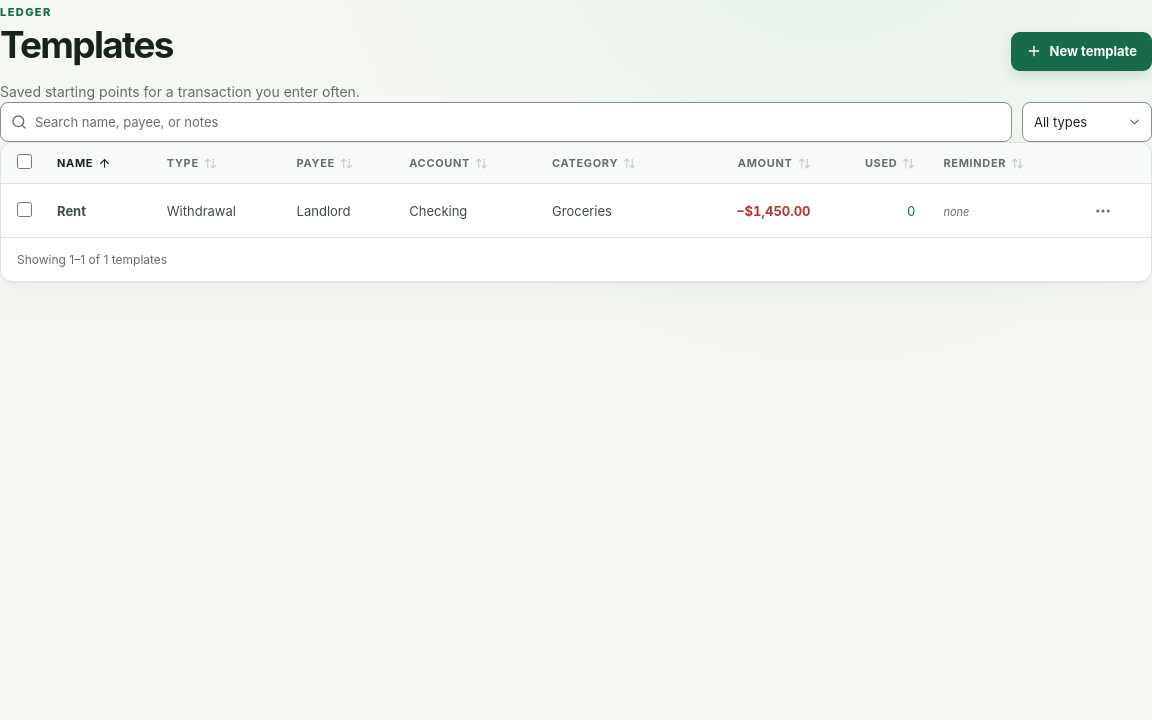
Test case: the templates screen › keeps the selection and shows the reason when a mass edit fails
expect the heading "Templates" is shown: met, box [0,26,173,65]
expect the text "Rent" is shown: met, box [57,203,86,219]
Step 1. Click the checkbox named "Select Rent" → coordinates (24, 209), box [16,202,32,217]
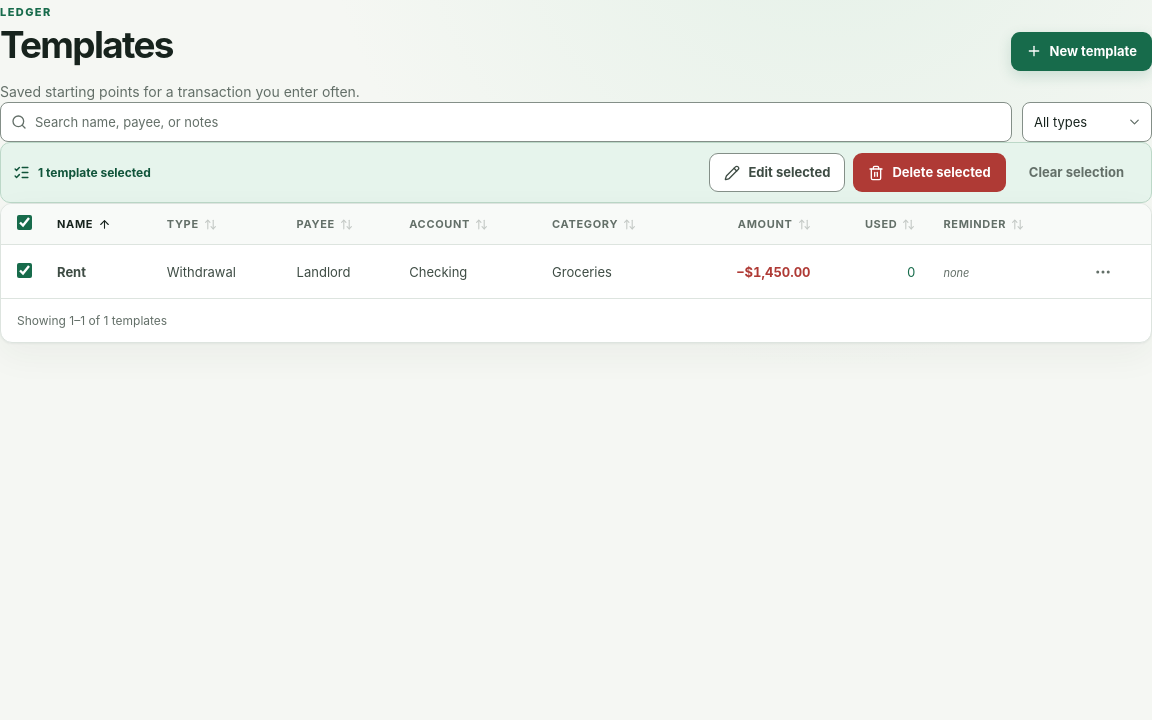
Step 2. Click the button "Edit selected" → coordinates (777, 173), box [709,153,845,192]
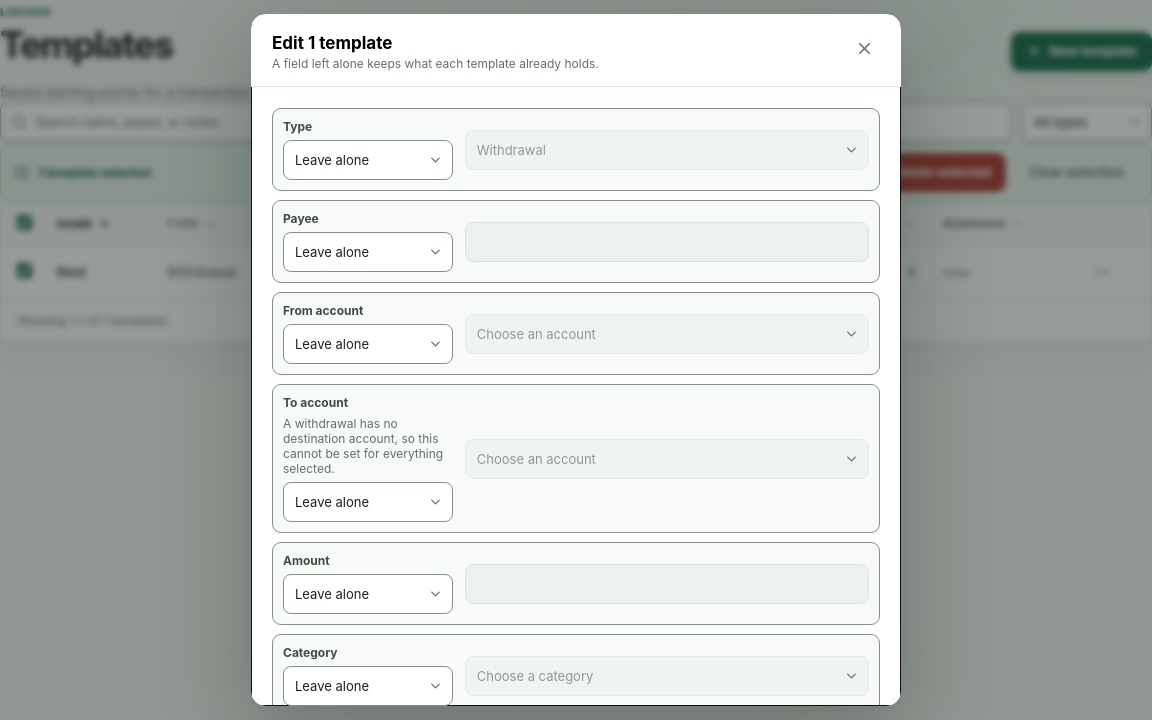
Step 3. Select "Set to" in the dropdown labelled "Payee" → coordinates (368, 252), box [283,232,453,272]
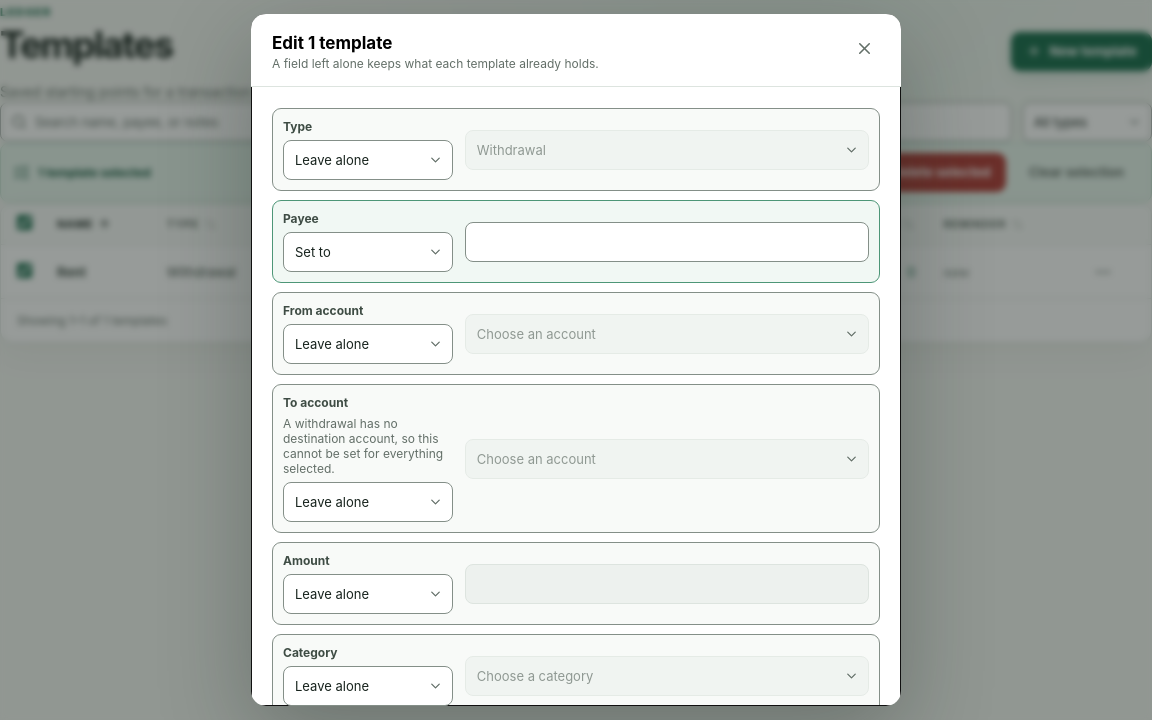
Step 4. Type "Nope" into the field named "New payee" → coordinates (667, 242), box [465,222,869,262]
(page scrolled)
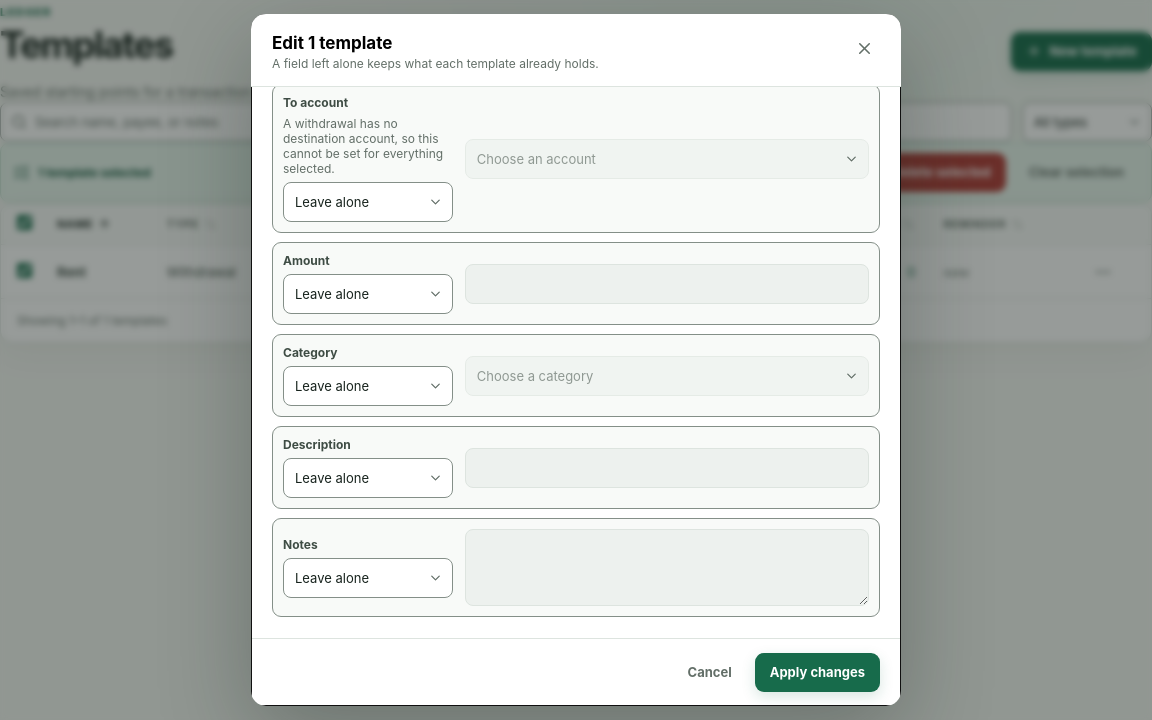
Step 5. Click the button "Apply changes" → coordinates (817, 672), box [755,652,880,692]
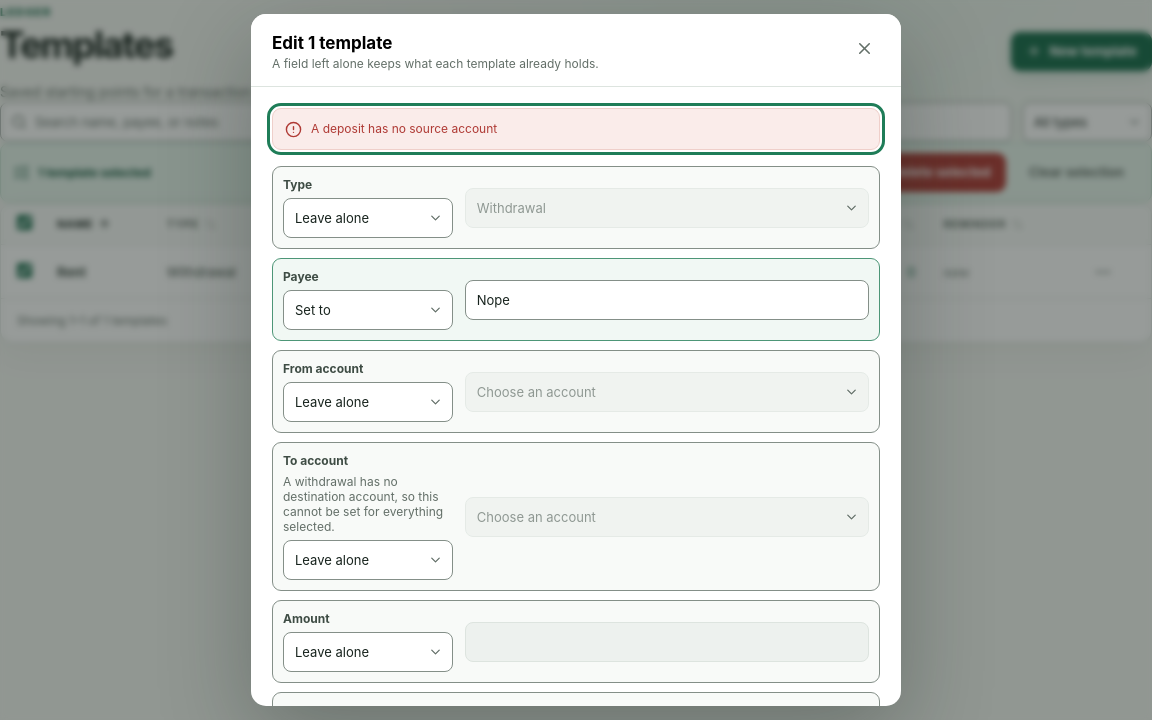
expect the text "1 template selected" is shown: met, box [38,165,151,180]
expect the text "A deposit has no source account" is shown: met, box [311,120,497,138]
